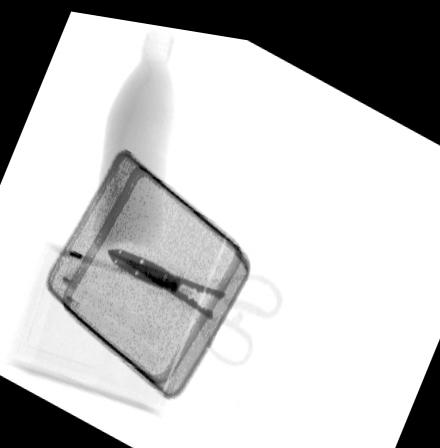Scissors: (105, 241, 281, 356)
